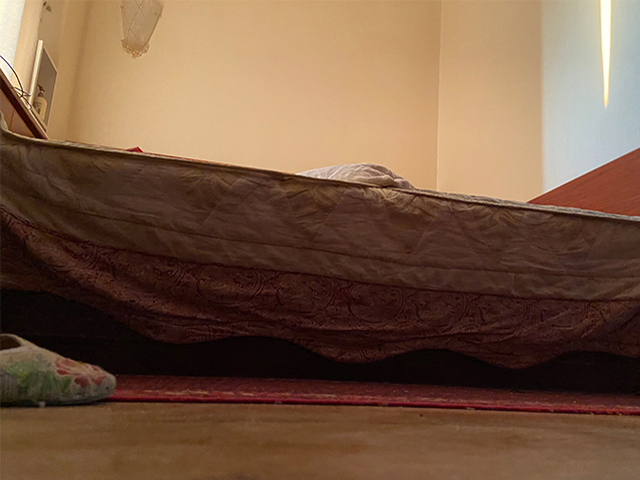bed: (1, 69, 640, 378)
carpet: (111, 371, 640, 416)
